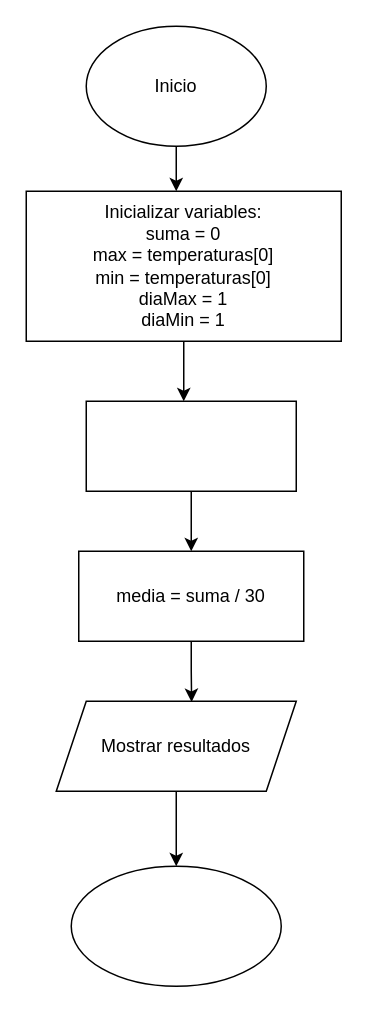
Some shapes in this 368 by 1013 pixel diagram are drawn without their labels. The centre of each missing label's shape, as x and y in pixels:
Fin: point (175, 925)
Recorrer array Actualizar suma Actualizar máxima Actualizar mínima: point (190, 445)
